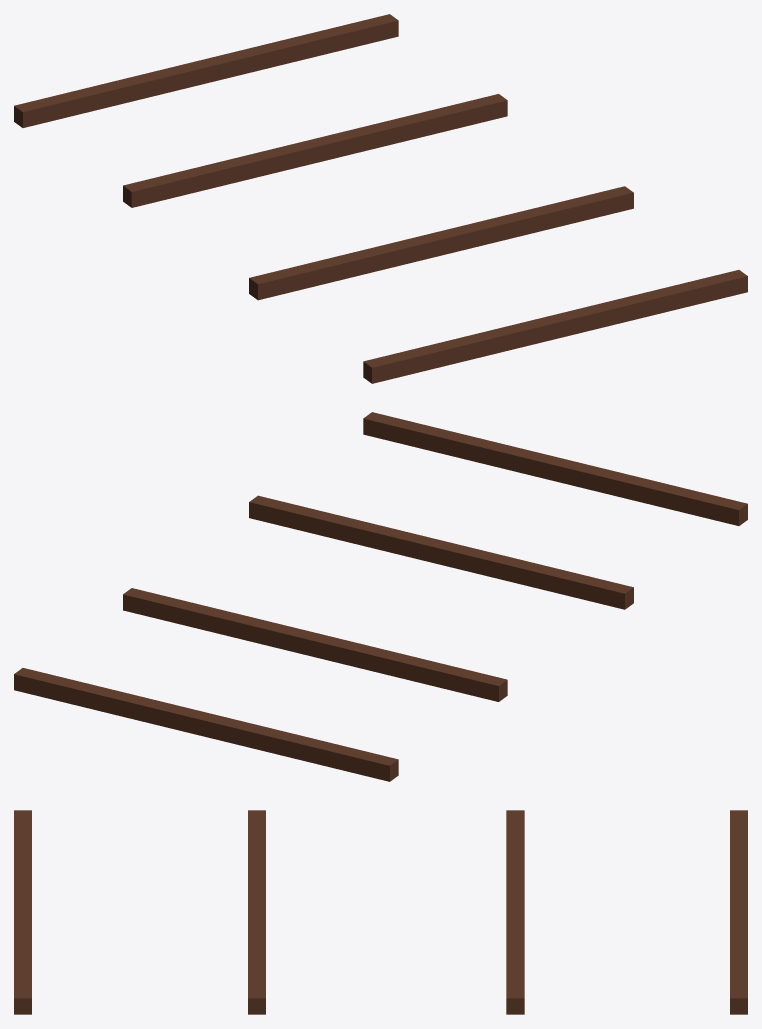
The model's file is FloorBoardBase.fbx.
3 views of the same model, one above another, from view 1: azimuth 30°, elevation 25°; view 2: azimuth 150°, elevation 25°; view 3: azimuth 270°, elevation 25° (orthographic). The views are drawn at different scales.
Visible parts, largest first — view 1: FloorBase; view 2: FloorBase; view 3: FloorBase.
Boxes of the visible parts, <box> form: FloorBase: <box>14,14,747,383</box>; FloorBase: <box>14,412,747,781</box>; FloorBase: <box>14,810,747,1014</box>.
Bounding box in the file's own units: 2.4 × 0.0978 × 3.96.
1 material, 1 textured.
